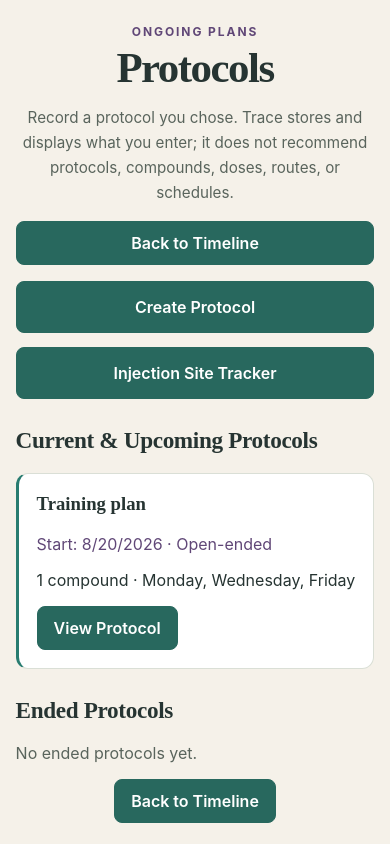
Test: a removed originating row falls back deterministically to its list section
Click the button "View Protocol".
click(107, 628)  # box 37,606 -> 178,650
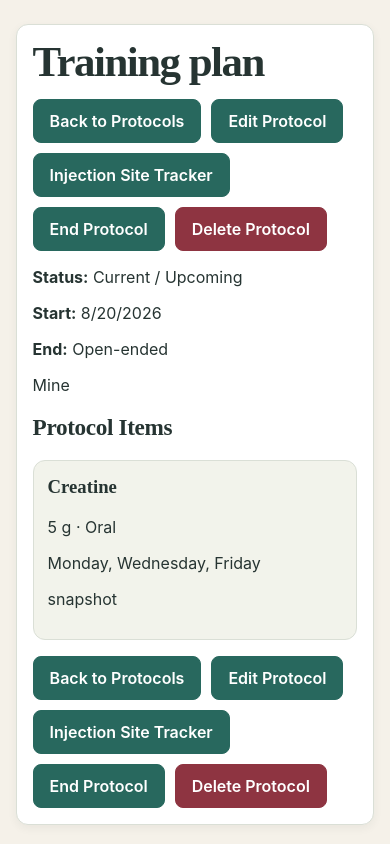
Click the 1st button "Delete Protocol".
click(251, 229)  # box 175,207 -> 327,251
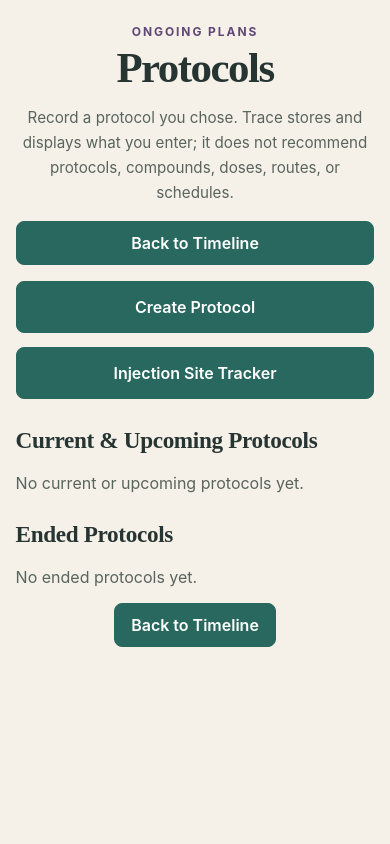
Result: the element labelled "Current & Upcoming Protocols" shows "No current or upcoming protocols yet." at 16,473 -> 304,493
